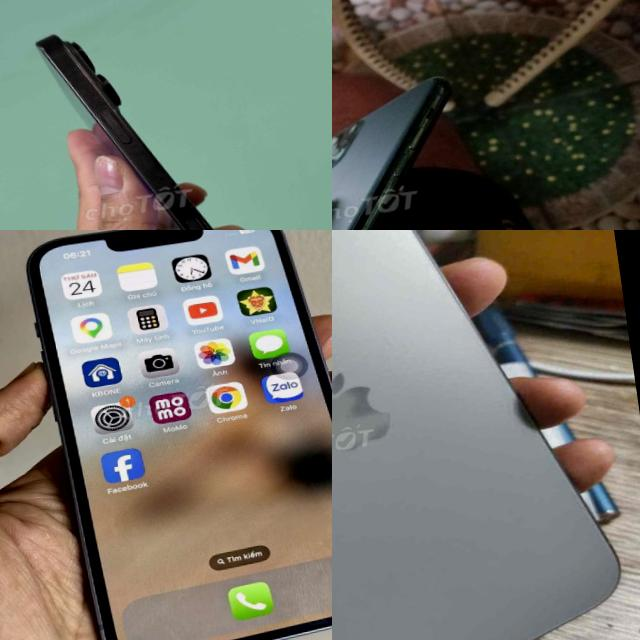gen_11: (332, 69, 500, 230)
gen_14: (14, 230, 332, 640)
gen_15: (332, 230, 640, 640)
gen_16: (36, 35, 215, 230)
scratch: (66, 58, 86, 88)
